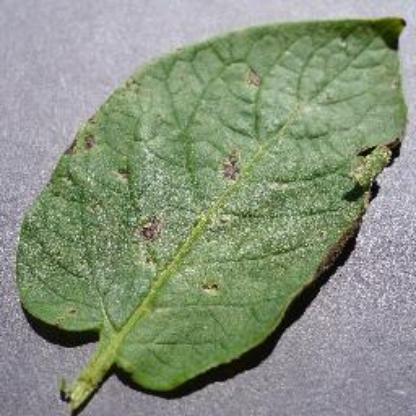Early-Blight: (15, 16, 403, 408)
